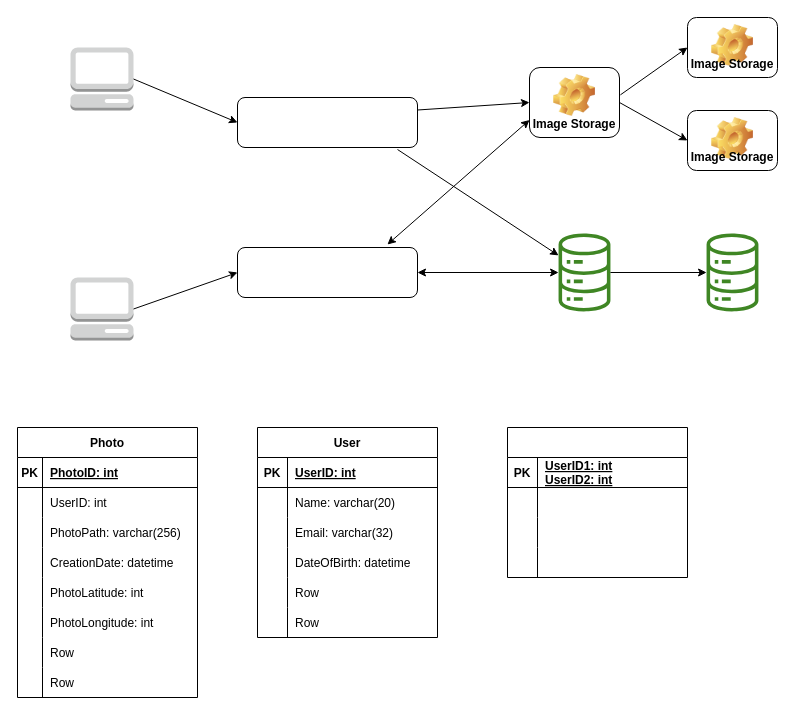
Image size: 795x715. Some labels were removed from this diagram. Here are the shapes that lost their labels. From the top down, the box of each, then its label:
(236, 96, 418, 148): Upload Image Request
(236, 246, 418, 298): Download Image Request
(506, 426, 688, 578): UserFollow
